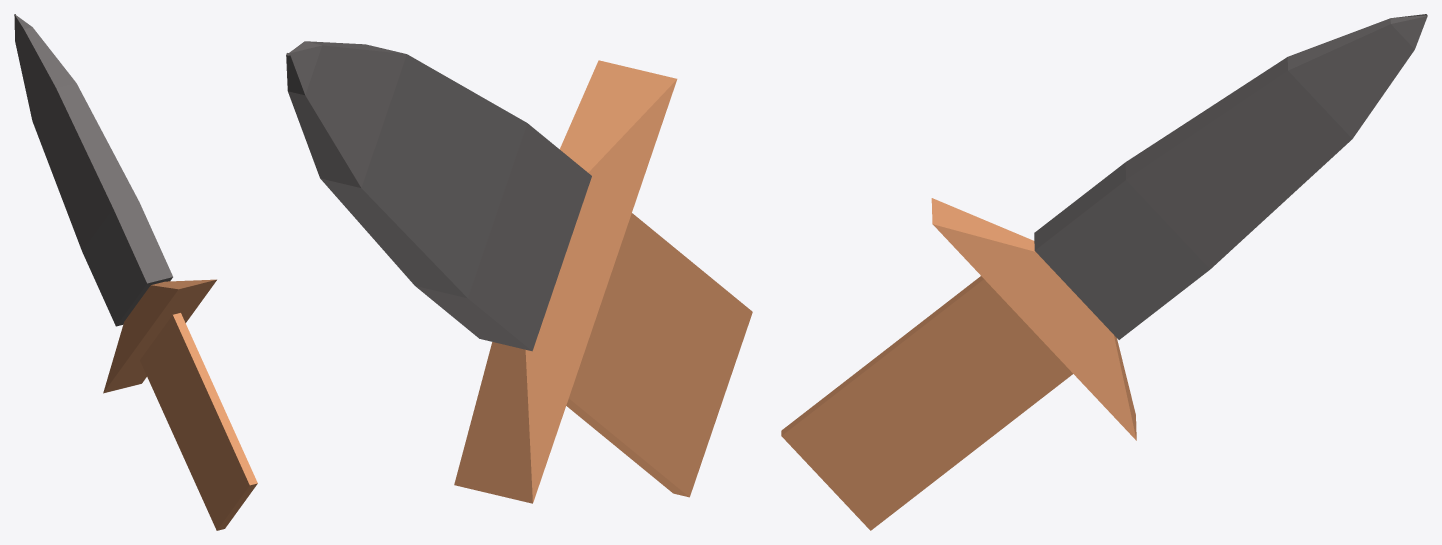
File: knife.glb
3 views of the same model, side by side, from view 1: azimuth 30°, elevation 25°; view 2: azimuth 150°, elevation 25°; view 3: azimuth 270°, elevation 25° (orthographic). The views are drawn at different scales.
Parts seen in each view (by area): view 1: Cube; view 2: Cube; view 3: Cube.
Boxes of the visible parts, x1,y1,x2,y2 form: Cube: [14, 14, 257, 530]; Cube: [286, 41, 752, 503]; Cube: [781, 14, 1427, 530].
Bounding box in the file's own units: 0.4 × 3.46 × 3.97.
